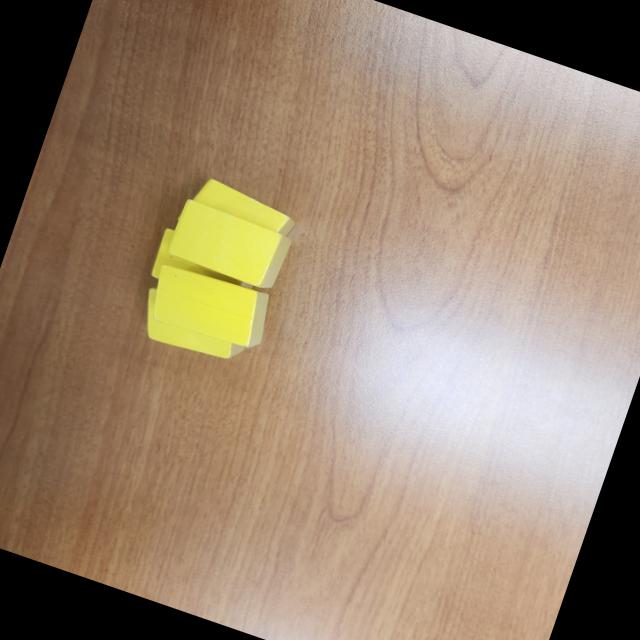yellow: (142, 257, 280, 356), (162, 196, 294, 294), (130, 284, 256, 371), (145, 226, 266, 311), (182, 172, 302, 238)
